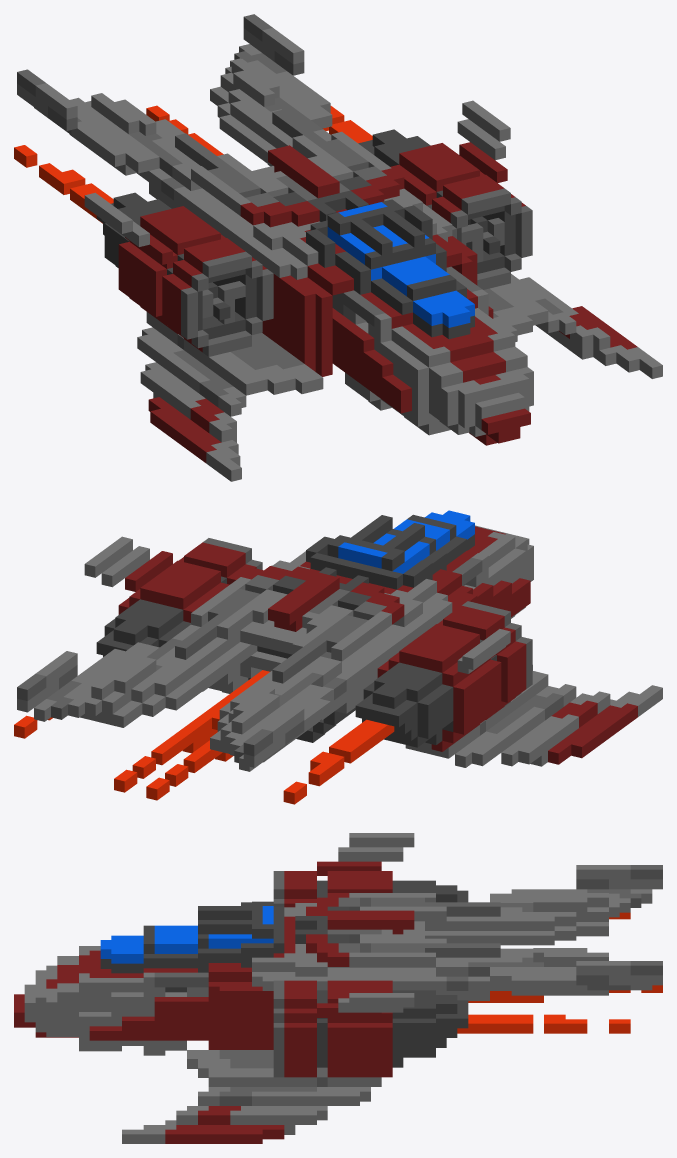
The model's file is SpaceShip.gltf.
The picture shows the model from 3 angles, top to bottom: view 1: azimuth 30°, elevation 25°; view 2: azimuth 150°, elevation 25°; view 3: azimuth 270°, elevation 25°; orthographic projection. The views are drawn at different scales.
Bounding box in the file's own units: 40 × 14 × 60.
Materials: 1 (1 with a texture image).
